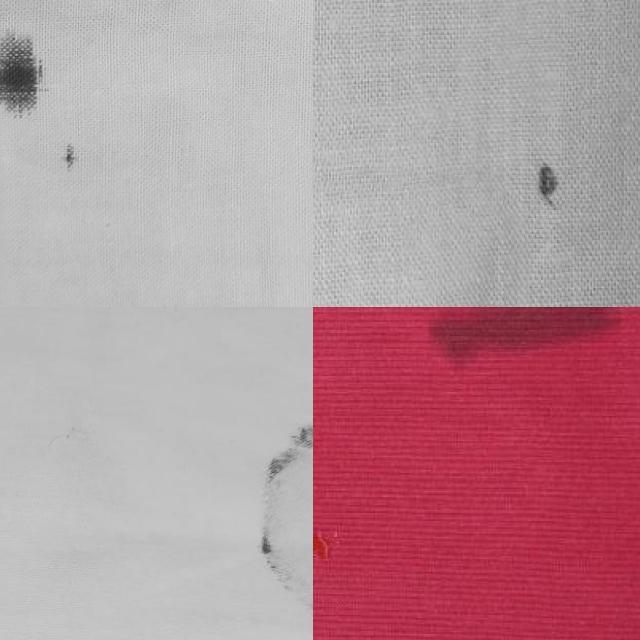Thread_other: (478, 84, 634, 282), (419, 307, 640, 400), (239, 403, 313, 640), (0, 14, 92, 176), (313, 501, 372, 607)
